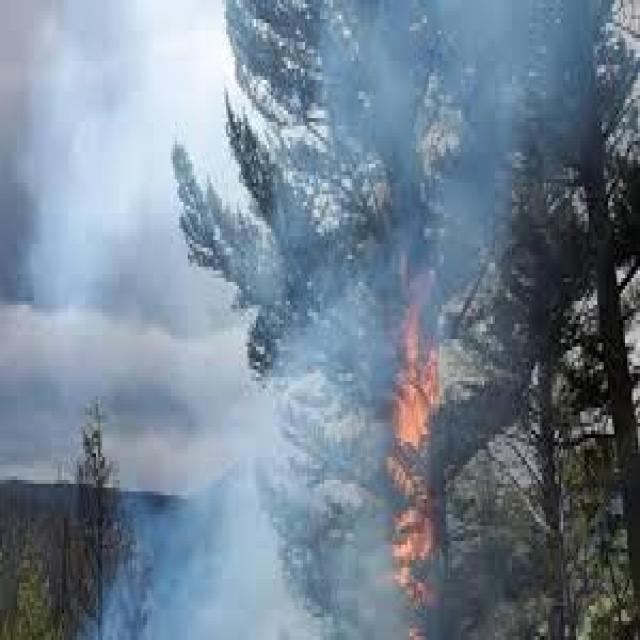Fire: (384, 289, 446, 640)
Smoke: (139, 387, 430, 633), (370, 0, 534, 284)
